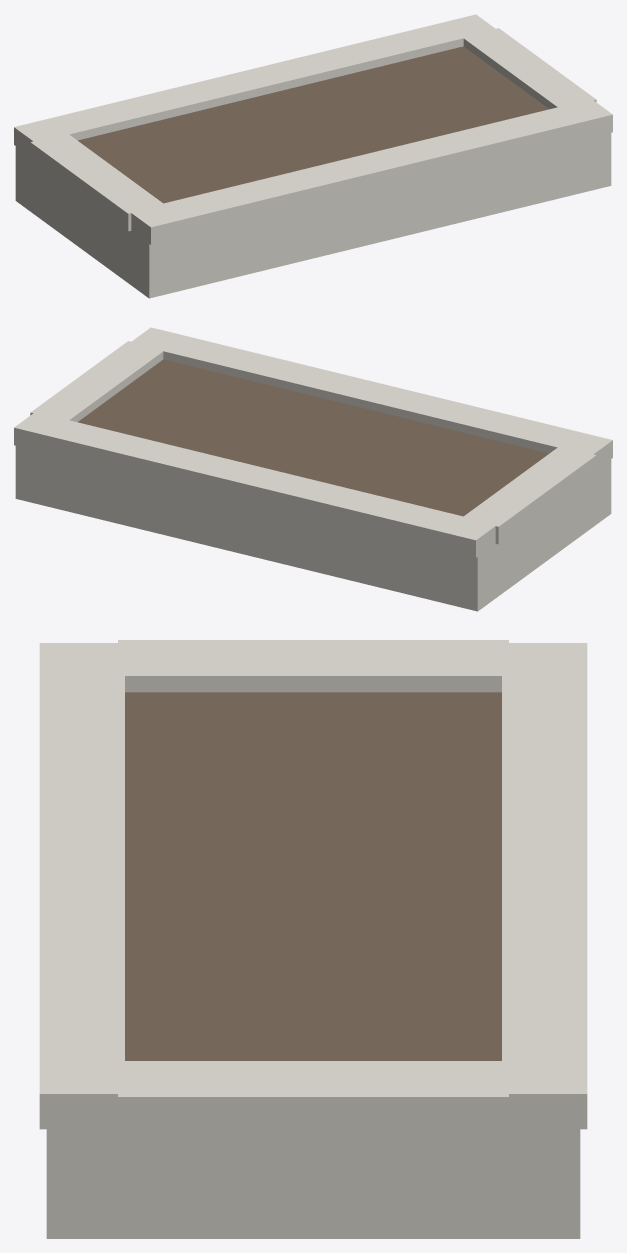
The model's file is botanical-glasshouse-and-palm-house-botanical-glasshou-9e070532__38555.glb.
The picture shows the model from 3 angles, top to bottom: view 1: azimuth 30°, elevation 25°; view 2: azimuth 150°, elevation 25°; view 3: azimuth 270°, elevation 25°; orthographic projection. The views are drawn at different scales.
Visible parts, largest first — view 1: botanical-glasshouse-and-palm-house-raised-bed-with-stone-ke (×2); view 2: botanical-glasshouse-and-palm-house-raised-bed-with-stone-ke (×2); view 3: botanical-glasshouse-and-palm-house-raised-bed-with-stone-ke (×2).
Boxes of the visible parts, x1,y1,x2,y2 form: botanical-glasshouse-and-palm-house-raised-bed-with-stone-ke (×2): (14, 14, 612, 298); botanical-glasshouse-and-palm-house-raised-bed-with-stone-ke (×2): (14, 327, 612, 611); botanical-glasshouse-and-palm-house-raised-bed-with-stone-ke (×2): (39, 640, 587, 1238).
Size of the model in its own units: 3.04 by 0.4499 by 1.54.
